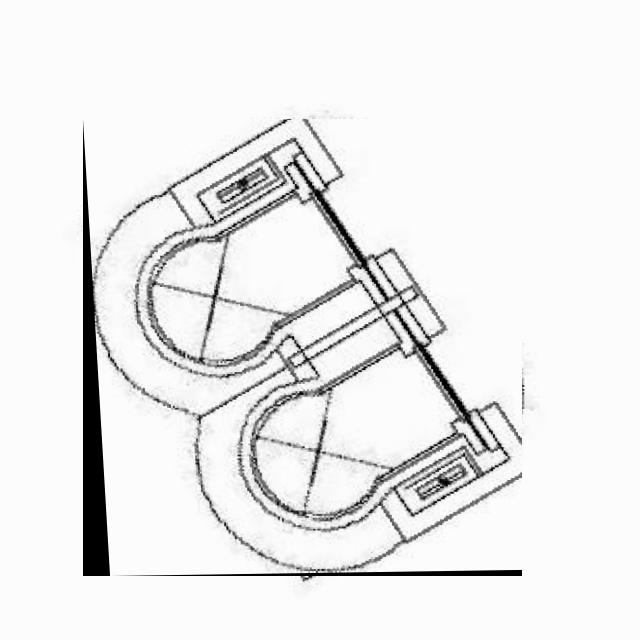lift: (83, 119, 522, 576)
